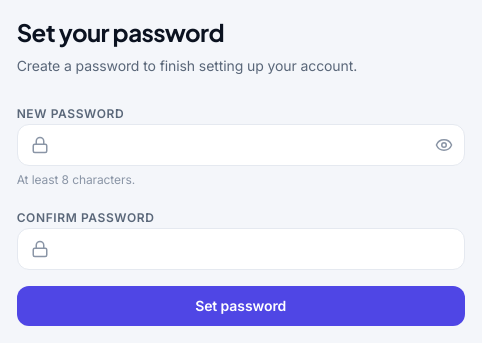
ResetPasswordForm › an invite uses the 'set your password' wording and lands on the staff sign-in
The width and height of the screenshot is (482, 343).
expect the heading "Set your password" is shown: met, box x1=17 y1=17 x2=224 y2=47
Type "Copper-Meadow-42" into the password field labelled "New password".
click(241, 145); type("Copper-Meadow-42")  # box x1=17 y1=124 x2=465 y2=166
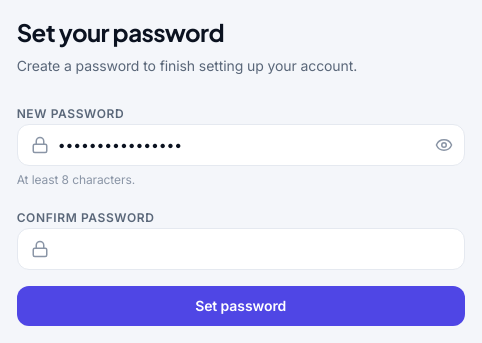
Type "Copper-Meadow-42" into the password field labelled "Confirm password".
click(241, 249); type("Copper-Meadow-42")  # box x1=17 y1=228 x2=465 y2=270
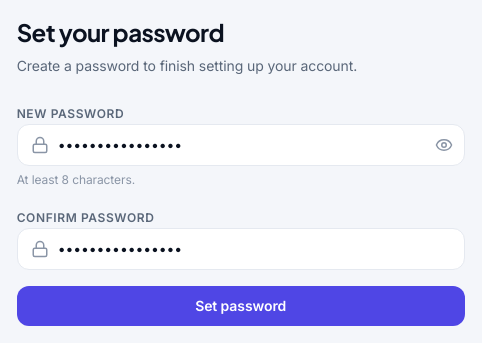
Click the button "Set password".
click(241, 306)  # box x1=17 y1=286 x2=465 y2=326
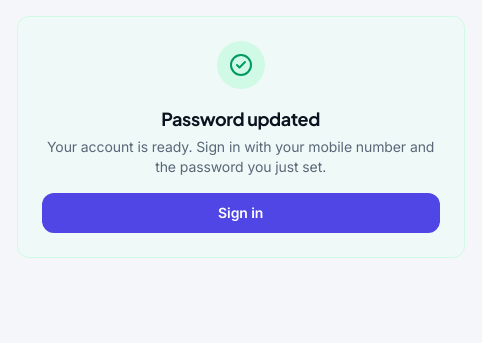
expect the text "Your account is ready. Sign in with your mobile number and the password you just set." is shown: met, box x1=47 y1=138 x2=434 y2=175
